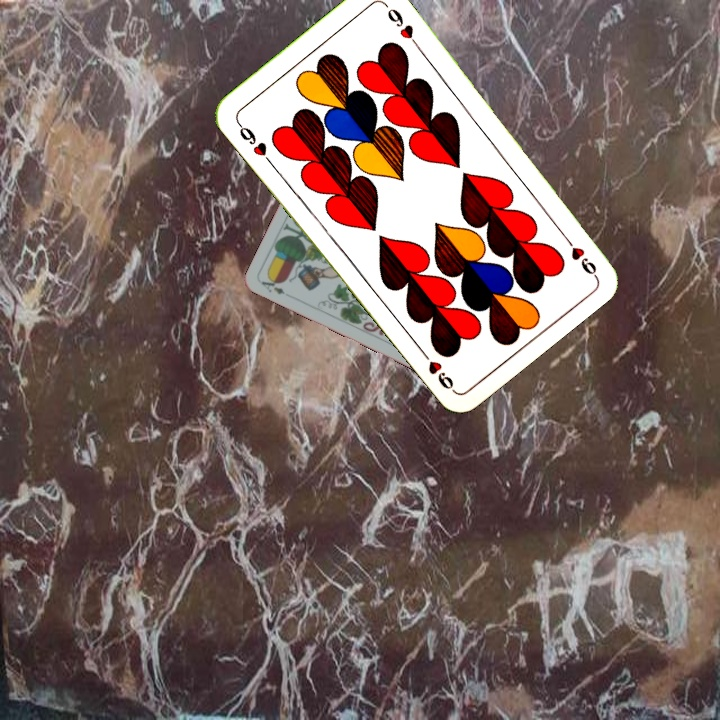EA: (257, 273, 287, 297)
H9: (232, 117, 275, 167), (557, 228, 600, 278)
